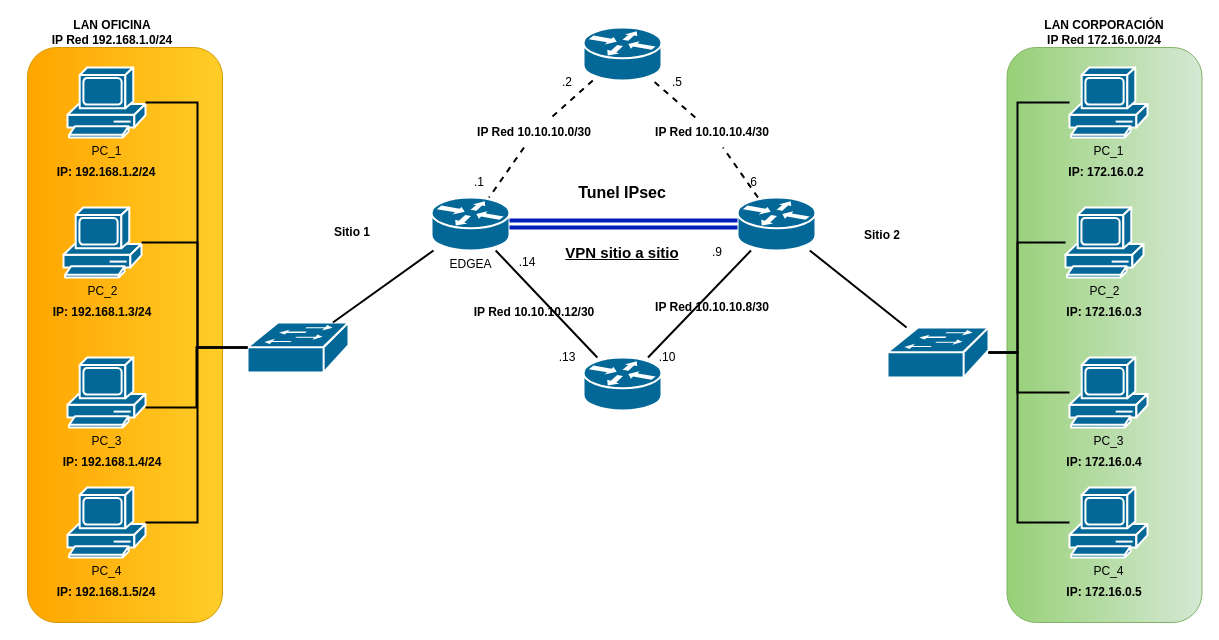
Image size: 1219x640. Some labels were removed from this diagram. Each missing label, with the box of its shape:
ABR: (582, 356, 662, 411)
EDGEB: (736, 196, 816, 251)
ISP: (582, 26, 662, 81)
Switch_A: (246, 321, 349, 373)
Switch_B: (886, 326, 989, 378)
